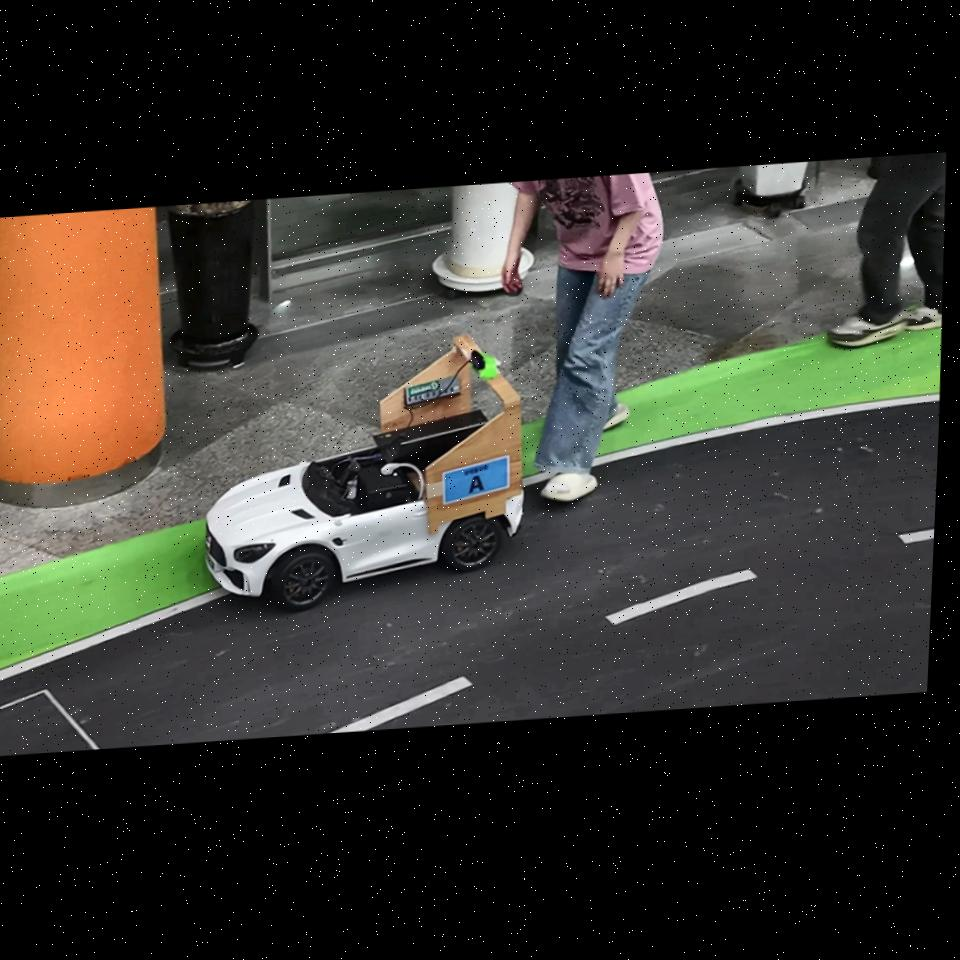broken_line: (605, 570, 758, 625), (331, 676, 472, 732), (899, 529, 934, 544)
